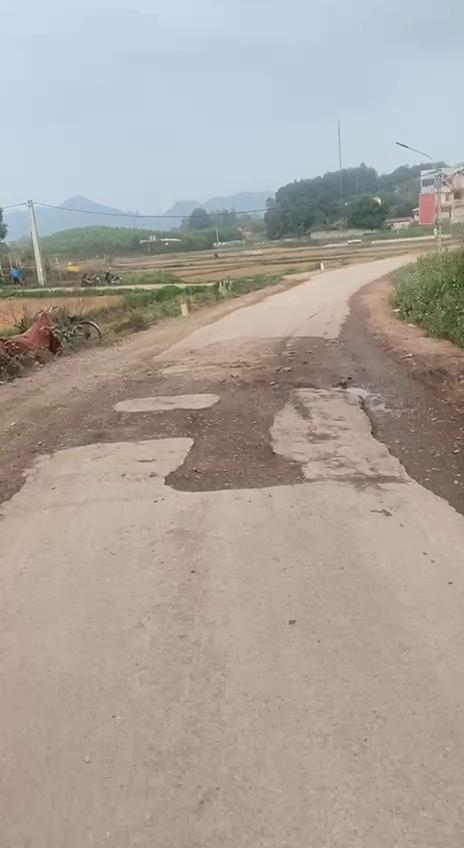pothole: (165, 390, 312, 494)
